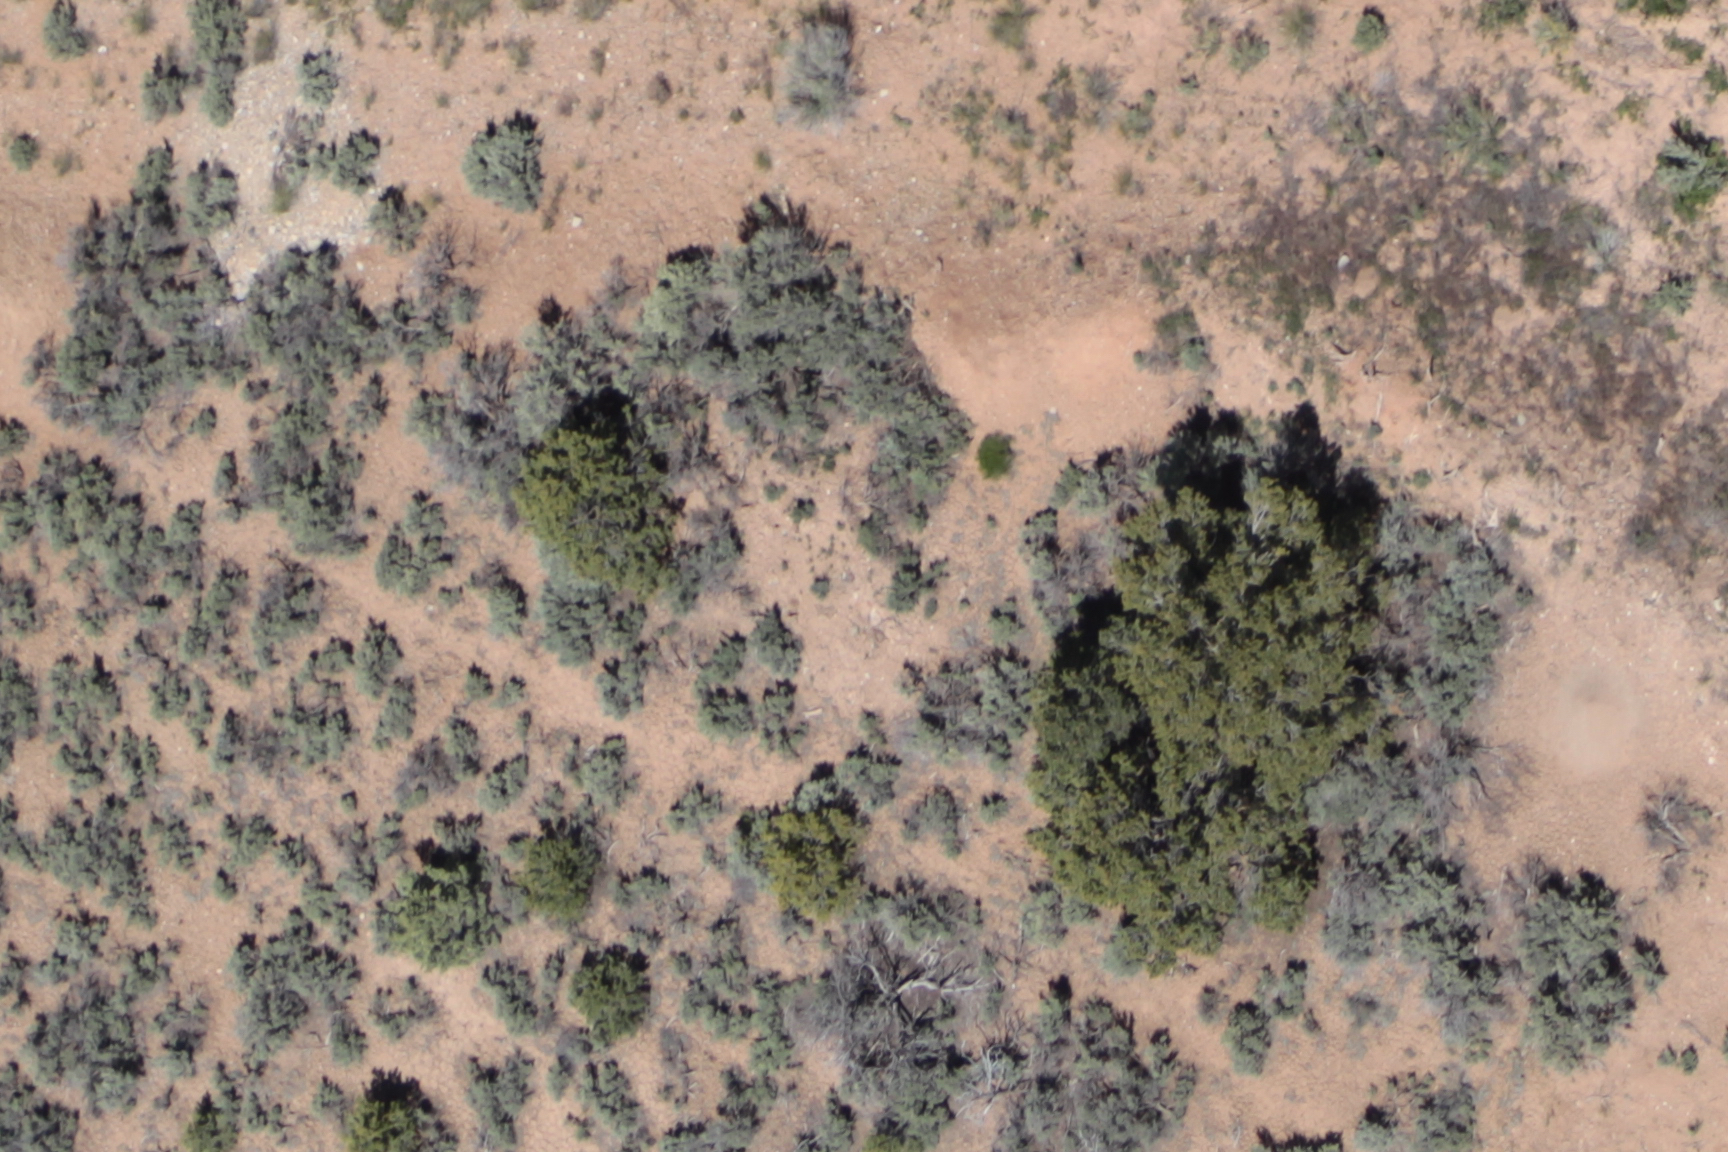burrow: (1529, 645, 1637, 775)
